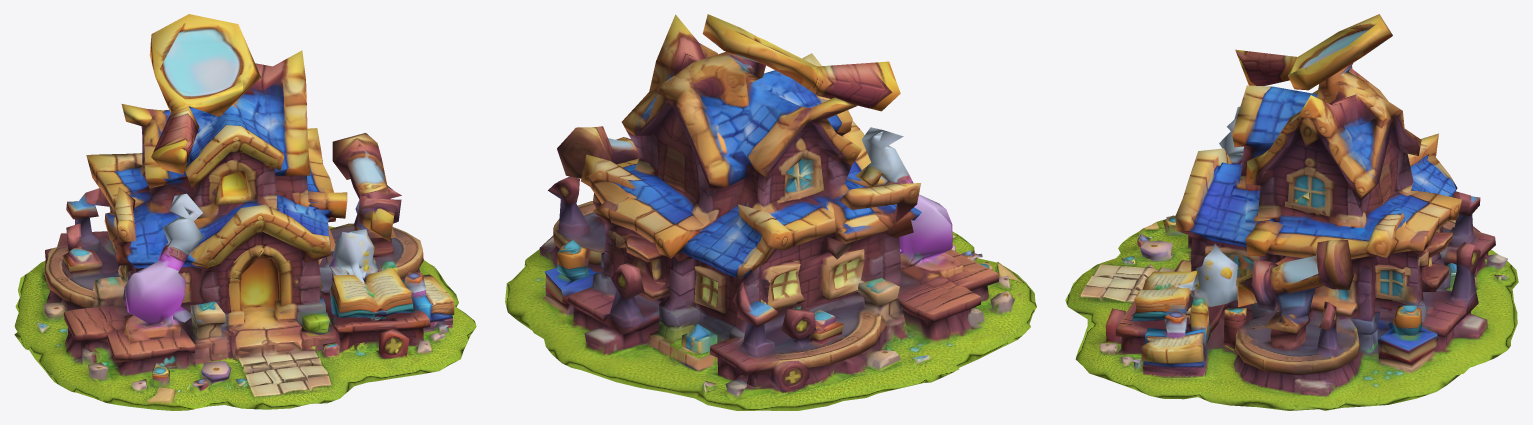
File: fantasy+alchemy+cottage+3d+model.glb
3 views of the same model, side by side, from view 1: azimuth 30°, elevation 25°; view 2: azimuth 150°, elevation 25°; view 3: azimuth 270°, elevation 25° (orthographic). The views are drawn at different scales.
Parts seen in each view (by area): view 1: tripo_node_b178781d-aac7-461f-9678-f06a8a06ba26; view 2: tripo_node_b178781d-aac7-461f-9678-f06a8a06ba26; view 3: tripo_node_b178781d-aac7-461f-9678-f06a8a06ba26.
Boxes of the visible parts, left/top/right/bottom form: tripo_node_b178781d-aac7-461f-9678-f06a8a06ba26: left=14, top=14, right=476, bottom=410; tripo_node_b178781d-aac7-461f-9678-f06a8a06ba26: left=505, top=14, right=1036, bottom=410; tripo_node_b178781d-aac7-461f-9678-f06a8a06ba26: left=1065, top=14, right=1518, bottom=410.
Bounding box in the file's own units: 0.9738 × 0.6366 × 0.9171.
Materials: 1 (1 with a texture image).
